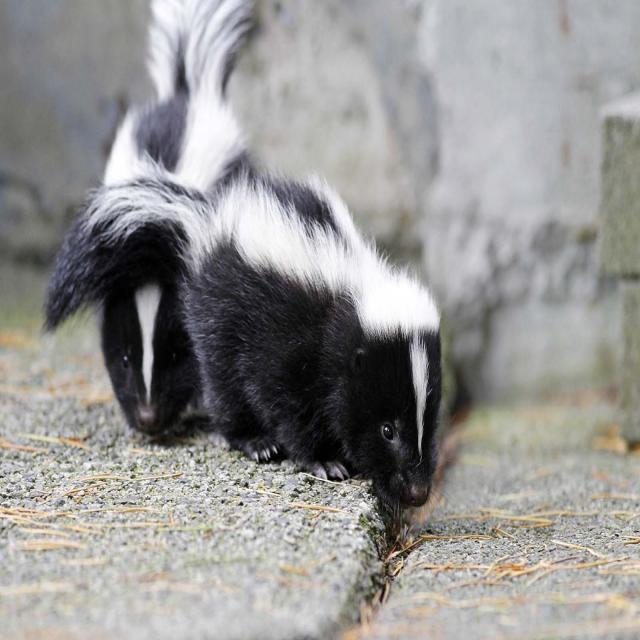Skunk: (53, 0, 454, 509)
